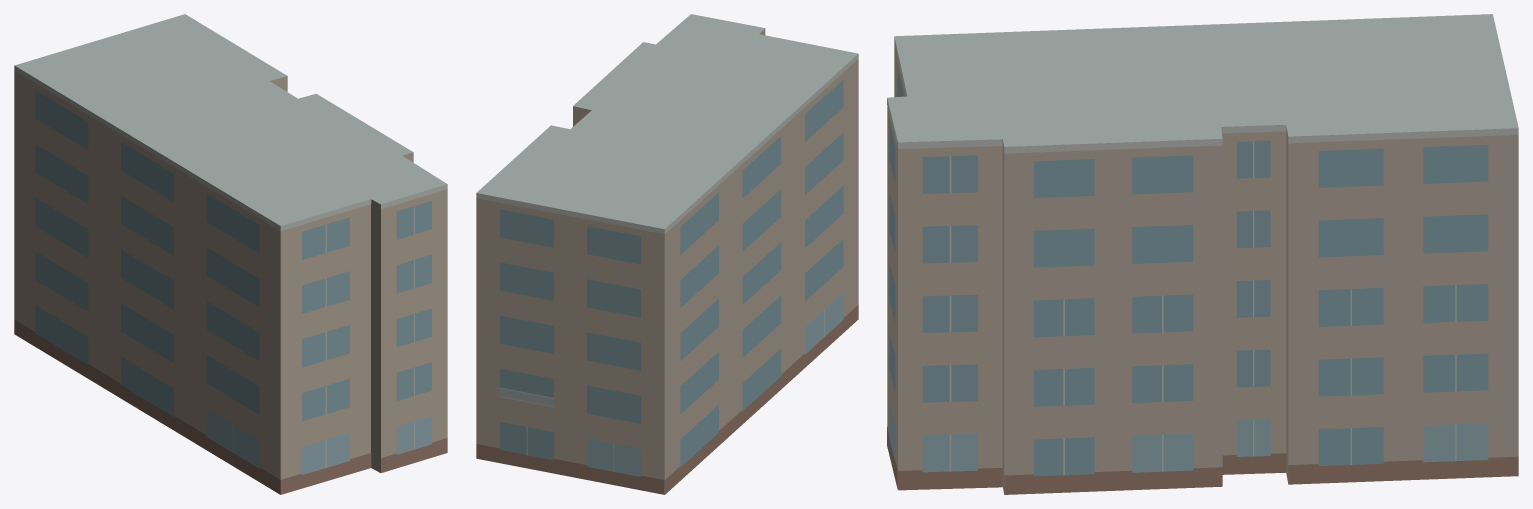
The model's file is survey-upis-32620808.glb.
3 renders of one model, left to right at view 1: azimuth 30°, elevation 25°; view 2: azimuth 150°, elevation 25°; view 3: azimuth 270°, elevation 25°, orthographic. The views are drawn at different scales.
Parts seen in each view (by area): view 1: survey-upis-32620808.tmp; view 2: survey-upis-32620808.tmp; view 3: survey-upis-32620808.tmp.
Boxes of the visible parts, <box> form: survey-upis-32620808.tmp: <box>14,14,447,494</box>; survey-upis-32620808.tmp: <box>476,14,858,494</box>; survey-upis-32620808.tmp: <box>887,14,1518,494</box>.
Bounding box in the file's own units: 10.42 × 12.7 × 20.91.
